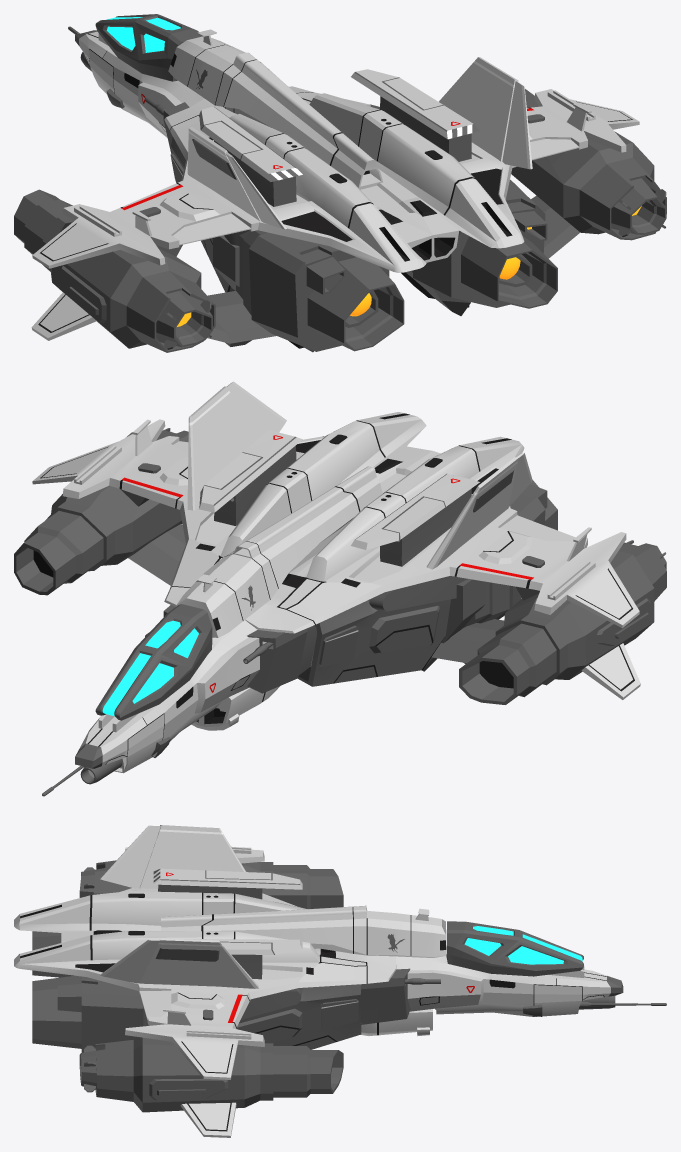
The model's file is sabre.glb.
3 views of the same model, one above another, from view 1: azimuth 30°, elevation 25°; view 2: azimuth 150°, elevation 25°; view 3: azimuth 270°, elevation 25° (orthographic). The views are drawn at different scales.
Parts seen in each view (by area): view 1: Object_10, Object_8, Object_5, Object_3, Object_6, Object_7; view 2: Object_10, Object_8, Object_5, Object_3, Object_2; view 3: Object_10, Object_8, Object_5, Object_3.
Boxes of the visible parts, box(x1,y1,x2,y2) form: Object_10: box(31, 29, 639, 340); Object_8: box(14, 14, 666, 352); Object_5: box(38, 33, 632, 348); Object_3: box(106, 17, 180, 52); Object_6: box(177, 206, 641, 326); Object_7: box(171, 61, 514, 180); Object_10: box(32, 381, 640, 773); Object_8: box(14, 428, 666, 796); Object_5: box(40, 413, 634, 764); Object_3: box(102, 620, 198, 716); Object_2: box(33, 550, 513, 724); Object_10: box(14, 825, 610, 1137); Object_8: box(32, 860, 666, 1112); Object_5: box(20, 892, 606, 1131); Object_3: box(464, 926, 582, 964).
Size of what is drawn, in the model's own units: 2.63 by 0.88 by 3.13.
